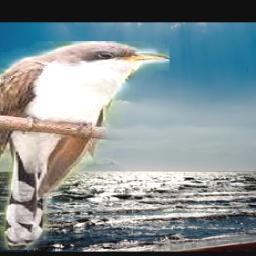Cuckoo: (0, 42, 171, 251)
